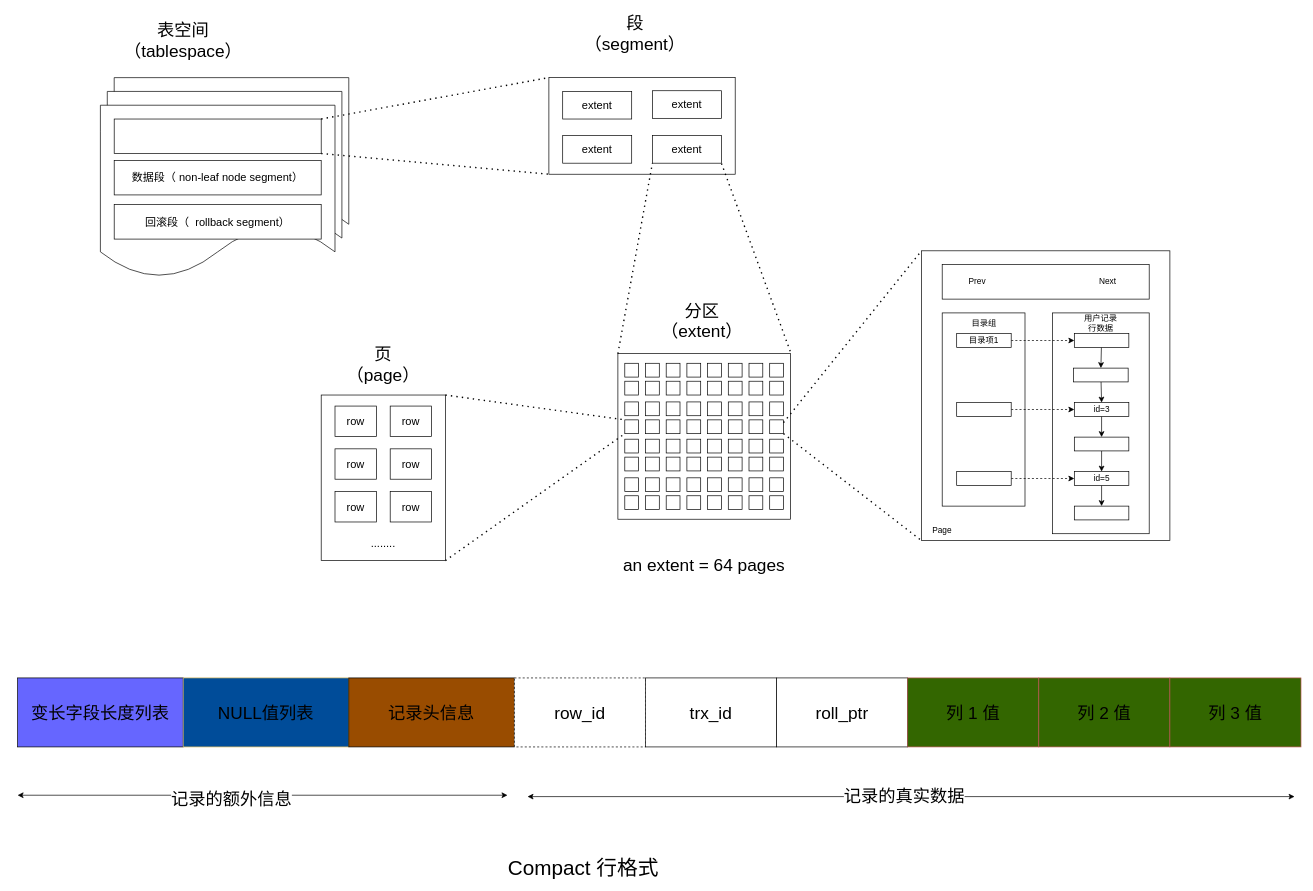
This 1313x891 diagram has some shape labels left out. The shapes that lost their labels are listed below. From the top down, each one's box as (x1, y1, x2, y2) in pixels, then its label:
(114, 118, 321, 154): 索引段（leaf node segment）
(1074, 333, 1129, 347): id=1
(1073, 367, 1128, 382): id=2
(956, 402, 1011, 416): 目录项2
(1074, 436, 1129, 451): id=4
(956, 471, 1011, 485): 目录项3
(1074, 505, 1129, 520): id=6
